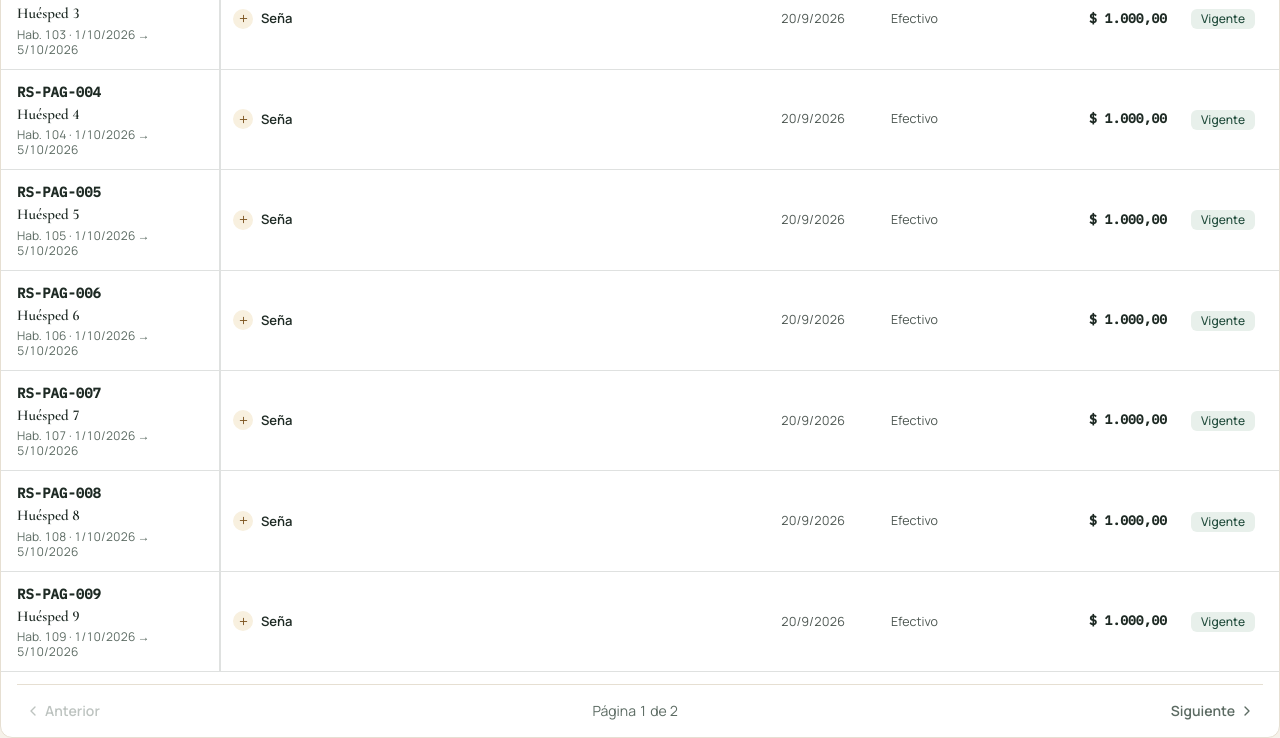
Test: MovimientosPagoPage › con más de 10 reservas, pagina de a 10 sin cortar ningún grupo a la mitad
(page scrolled)
Expected: the text "RS-PAG-009" is shown, x1=17 y1=584 x2=101 y2=604
Expected: the text "RS-PAG-010" is not shown
Click the button "Siguiente": coordinates (1213, 711) x1=1163 y1=697 x2=1263 y2=725
(page scrolled)
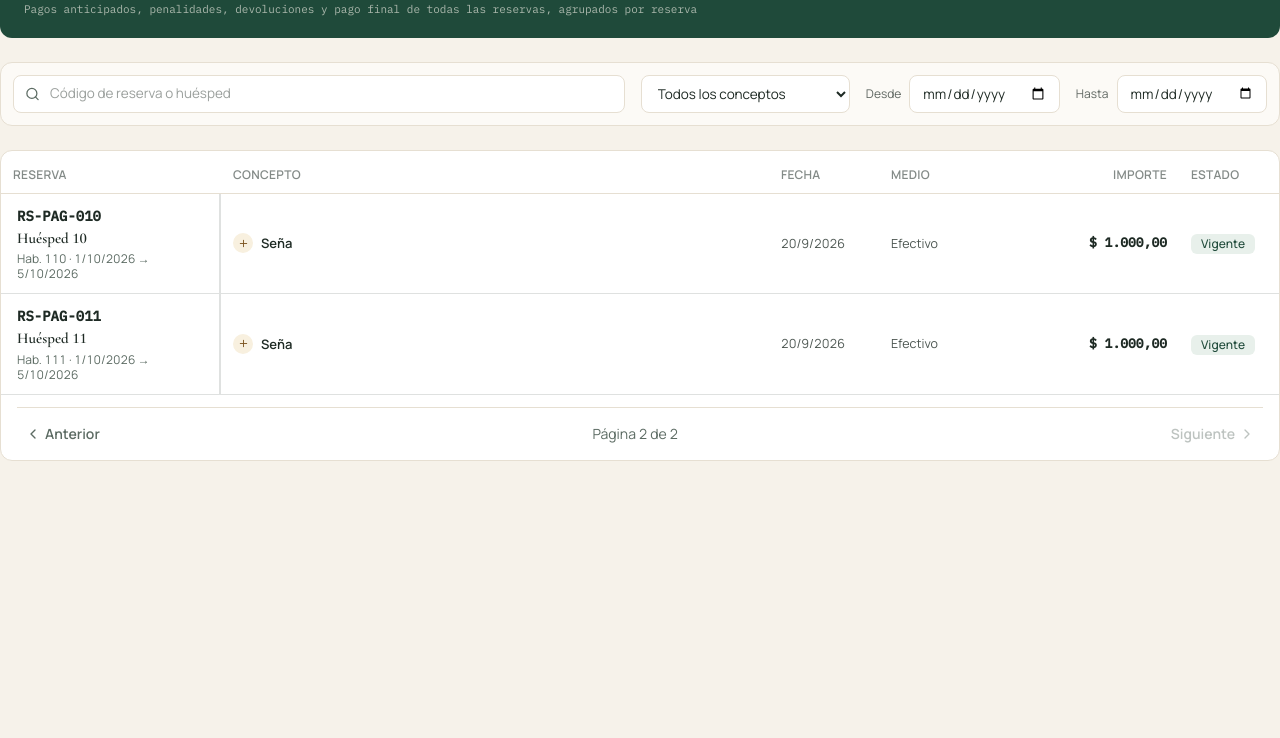
Expected: the text "RS-PAG-010" is shown, x1=17 y1=206 x2=101 y2=226
Expected: the text "RS-PAG-011" is shown, x1=17 y1=306 x2=101 y2=326
Expected: the text "Página 2 de 2" is shown, x1=592 y1=424 x2=678 y2=444
